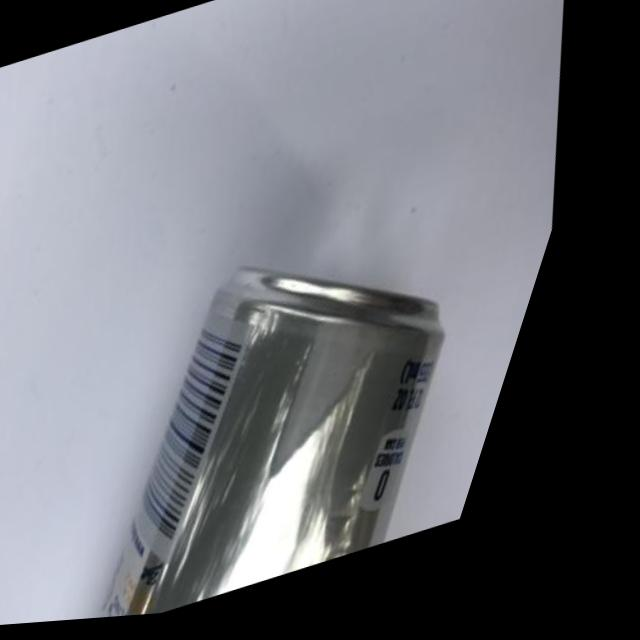metal: (17, 126, 587, 629)
